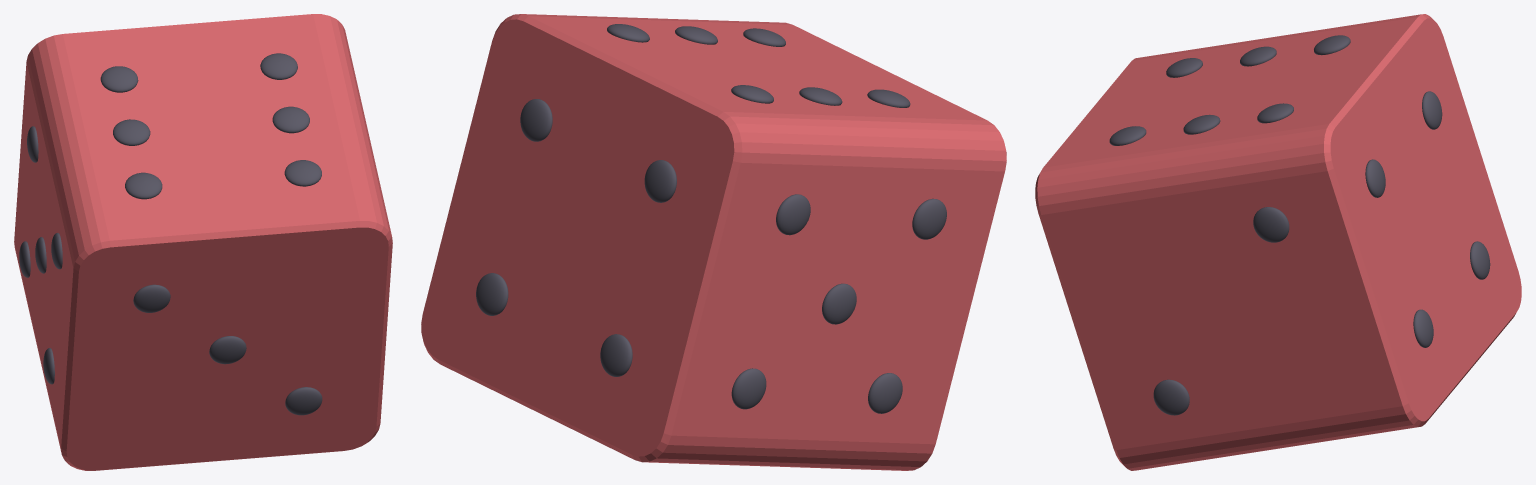
The model's file is inf_d6.glb.
The picture shows the model from 3 angles, left to right: view 1: azimuth 30°, elevation 25°; view 2: azimuth 150°, elevation 25°; view 3: azimuth 270°, elevation 25°; orthographic projection. The views are drawn at different scales.
Bounding box in the file's own units: 20 × 18 × 21.19.
